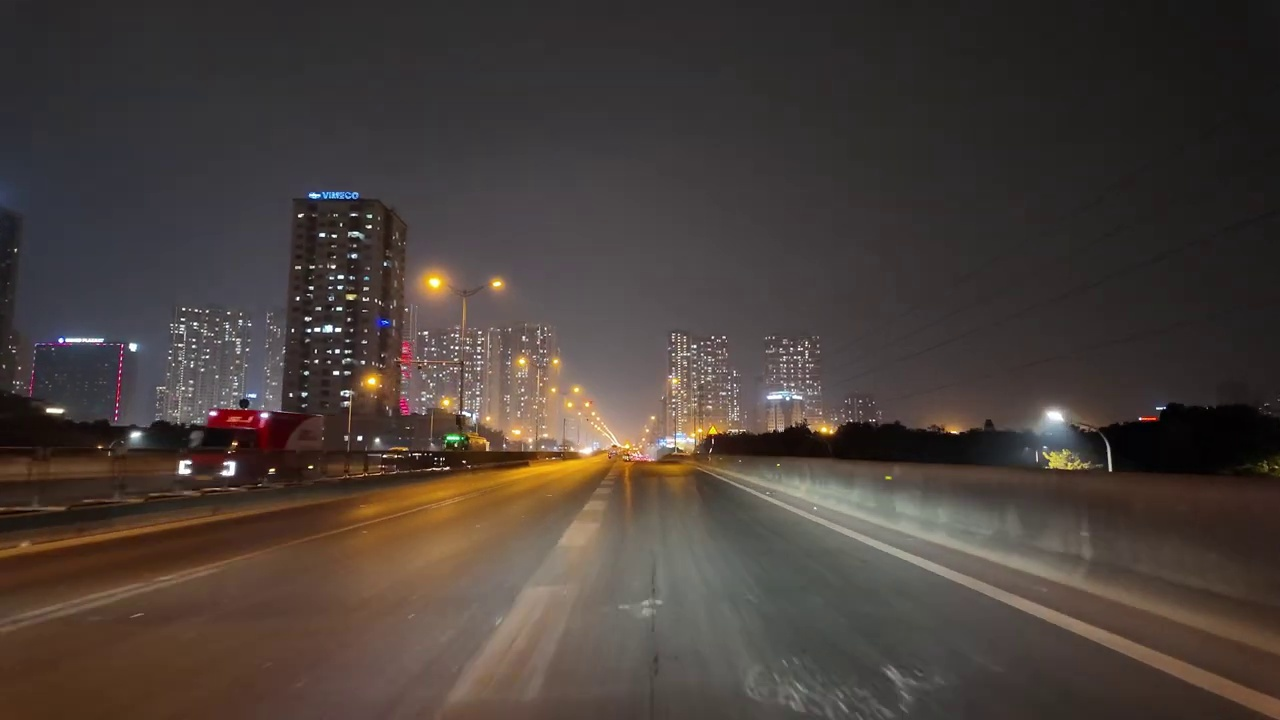acesa: (419, 269, 451, 298), (484, 274, 510, 298), (359, 371, 384, 394)
